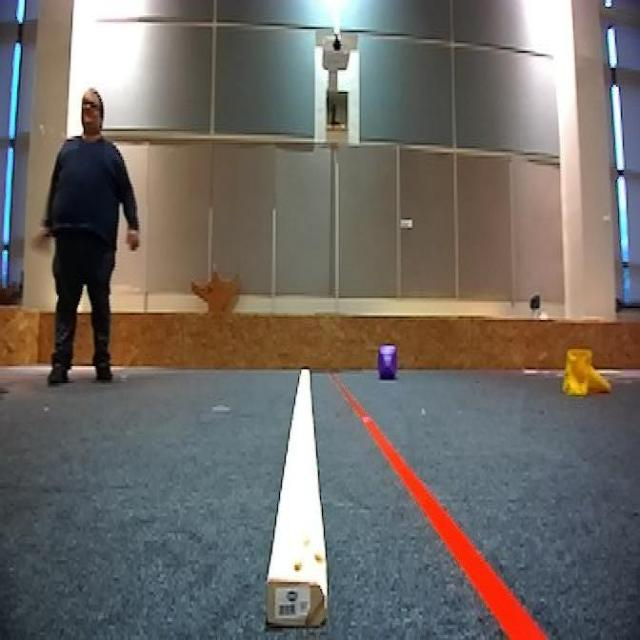frc_cone: (560, 344, 610, 398)
frc_cube: (376, 342, 400, 380)
